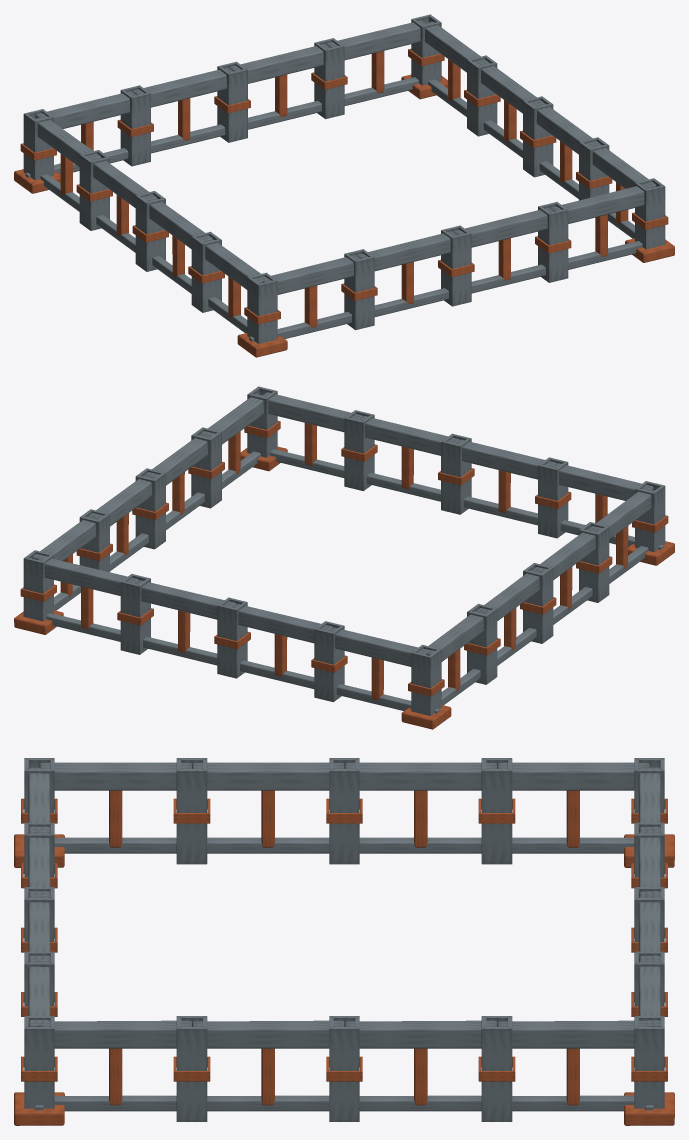
3 renders of one model, top to bottom at view 1: azimuth 30°, elevation 25°; view 2: azimuth 150°, elevation 25°; view 3: azimuth 270°, elevation 25°, orthographic. The views are drawn at different scales.
Visible parts, largest first — view 1: Tier 0 side 0 post 3, Tier 0 side 0 post 2, Tier 0 side 2 post 1, Tier 0 side 0 post 1, Tier 0 side 2 post 2, Tier 0 side 2 post 3, Tier 0 bay 2-0-0 box girder, Tier 0 bay 2-0-2 box girder, Tier 0 bay 2-0-1 box girder, Tier 0 bay 0-0-1 box girder, Tier 0 bay 0-0-3 box girder, Tier 0 side 0 post 0 (+41 smaller); view 2: Tier 0 side 2 post 1, Tier 0 side 2 post 2, Tier 0 side 2 post 3, Tier 0 side 0 post 3, Tier 0 side 0 post 1, Tier 0 side 0 post 2, Tier 0 bay 0-0-3 box girder, Tier 0 bay 0-0-1 box girder, Tier 0 bay 0-0-2 box girder, Tier 0 bay 2-0-1 box girder, Tier 0 bay 2-0-2 box girder, Tier 0 bay 2-0-3 box girder (+41 smaller); view 3: Tier 0 bay 3-0-1 box girder, Tier 0 bay 3-0-2 box girder, Tier 0 bay 3-0-3 box girder, Tier 0 bay 3-0-0 box girder, Tier 0 bay 1-0-2 box girder, Tier 0 bay 1-0-1 box girder, Tier 0 bay 1-0-3 box girder, Tier 0 bay 1-0-0 box girder, Tier 0 side 3 post 1, Tier 0 side 3 post 3, Tier 0 side 1 post 1, Tier 0 side 1 post 3 (+40 smaller).
Part boxes in pixels (x1,y1,x2,y2): Tier 0 side 0 post 3: (538, 202, 568, 282); Tier 0 side 0 post 2: (441, 225, 471, 306); Tier 0 side 2 post 1: (314, 38, 344, 119); Tier 0 side 0 post 1: (344, 249, 374, 330); Tier 0 side 2 post 2: (217, 61, 247, 142); Tier 0 side 2 post 3: (120, 85, 150, 166); Tier 0 bay 2-0-0 box girder: (326, 20, 425, 60); Tier 0 bay 2-0-2 box girder: (132, 67, 233, 107); Tier 0 bay 2-0-1 box girder: (229, 44, 329, 83); Tier 0 bay 0-0-1 box girder: (356, 231, 457, 271); Tier 0 bay 0-0-3 box girder: (550, 184, 650, 223); Tier 0 side 0 post 0: (247, 272, 277, 343); Tier 0 side 2 post 1: (120, 574, 150, 654); Tier 0 side 2 post 2: (217, 597, 247, 678); Tier 0 side 2 post 3: (314, 621, 344, 702); Tier 0 side 0 post 3: (344, 410, 374, 491); Tier 0 side 0 post 1: (538, 457, 568, 538); Tier 0 side 0 post 2: (441, 433, 471, 514); Tier 0 bay 0-0-3 box girder: (261, 392, 362, 432); Tier 0 bay 0-0-1 box girder: (455, 439, 556, 479); Tier 0 bay 0-0-2 box girder: (358, 416, 459, 455); Tier 0 bay 2-0-1 box girder: (134, 580, 235, 619); Tier 0 bay 2-0-2 box girder: (231, 604, 332, 643); Tier 0 bay 2-0-3 box girder: (328, 627, 428, 666); Tier 0 bay 3-0-1 box girder: (344, 762, 496, 790); Tier 0 bay 3-0-2 box girder: (192, 762, 344, 790); Tier 0 bay 3-0-3 box girder: (39, 762, 191, 790); Tier 0 bay 3-0-0 box girder: (497, 762, 649, 790); Tier 0 bay 1-0-2 box girder: (344, 1020, 496, 1048); Tier 0 bay 1-0-1 box girder: (192, 1020, 344, 1048); Tier 0 bay 1-0-3 box girder: (497, 1020, 649, 1048); Tier 0 bay 1-0-0 box girder: (39, 1020, 191, 1048); Tier 0 side 3 post 1: (481, 758, 512, 864); Tier 0 side 3 post 3: (176, 758, 207, 864); Tier 0 side 1 post 1: (176, 1016, 207, 1121); Tier 0 side 1 post 3: (481, 1016, 512, 1121).
Bounding box in the file's own units: 1.95 × 0.3042 × 1.95.
2 materials, 2 textured.
